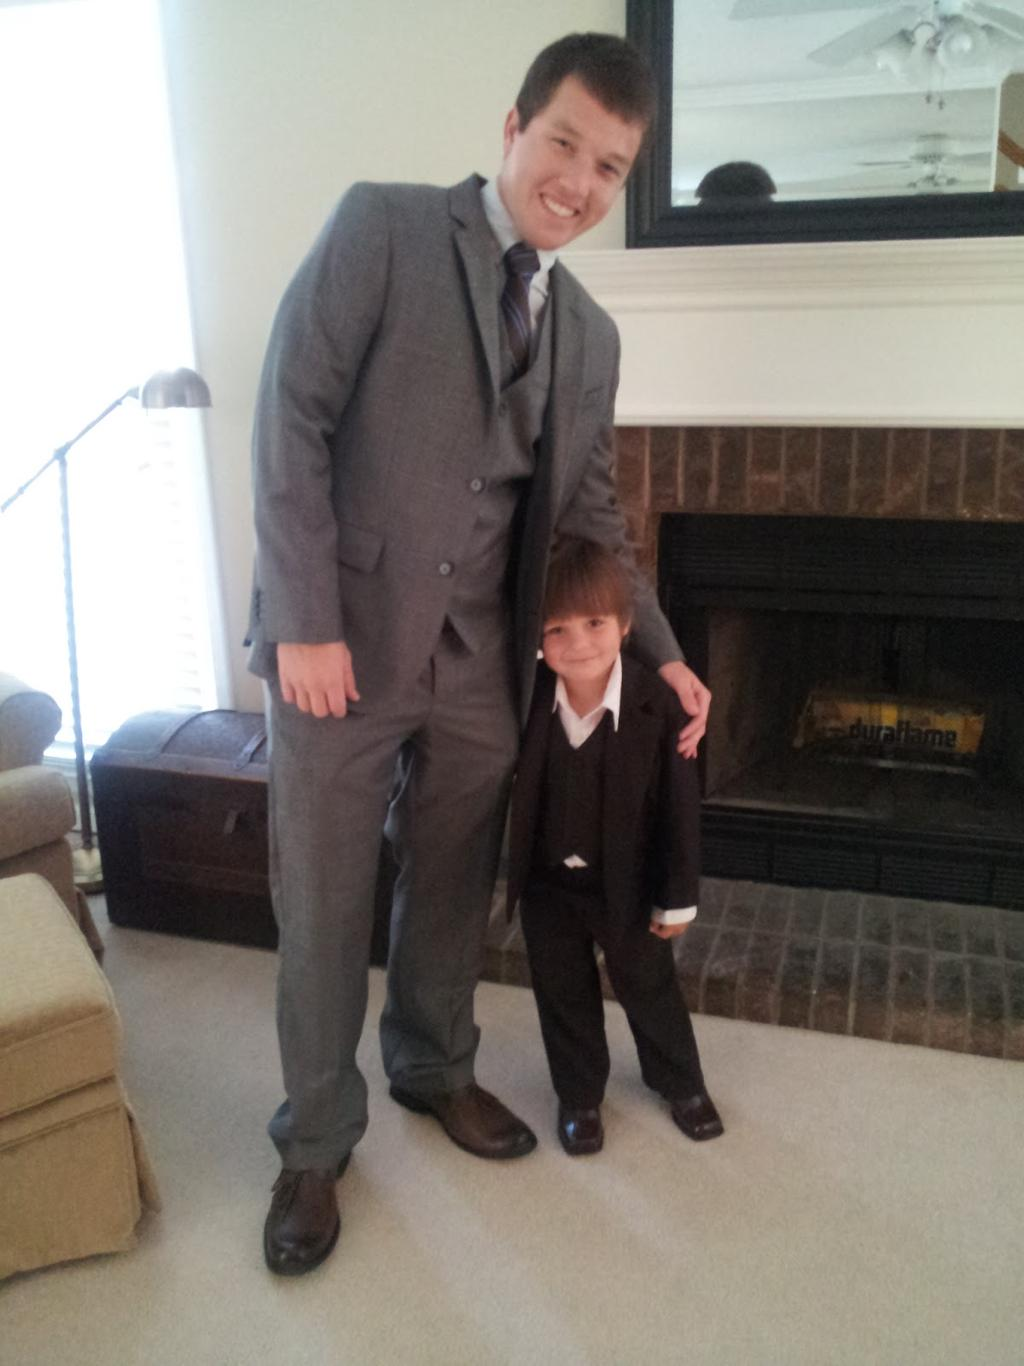face: (512, 75, 640, 248), (541, 592, 618, 683)
